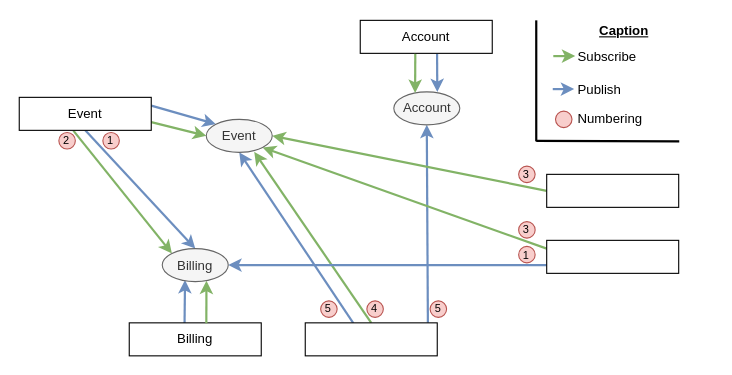
This 732x375 diagram has some shape labels left out. Here are the shapes that lost their labels. From the top down, the box of each, then its label:
(546, 173, 679, 207): Seating Plan
(546, 239, 679, 273): Catering
(304, 322, 437, 356): Scoreboard
